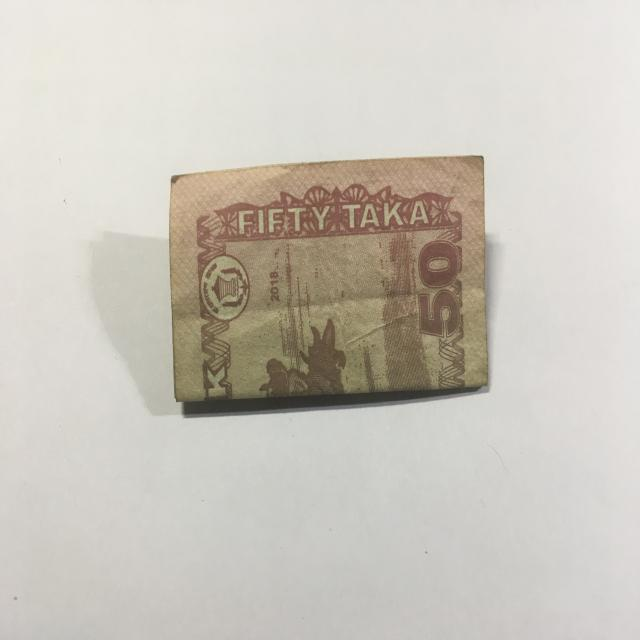Taka: (170, 154, 482, 394)
